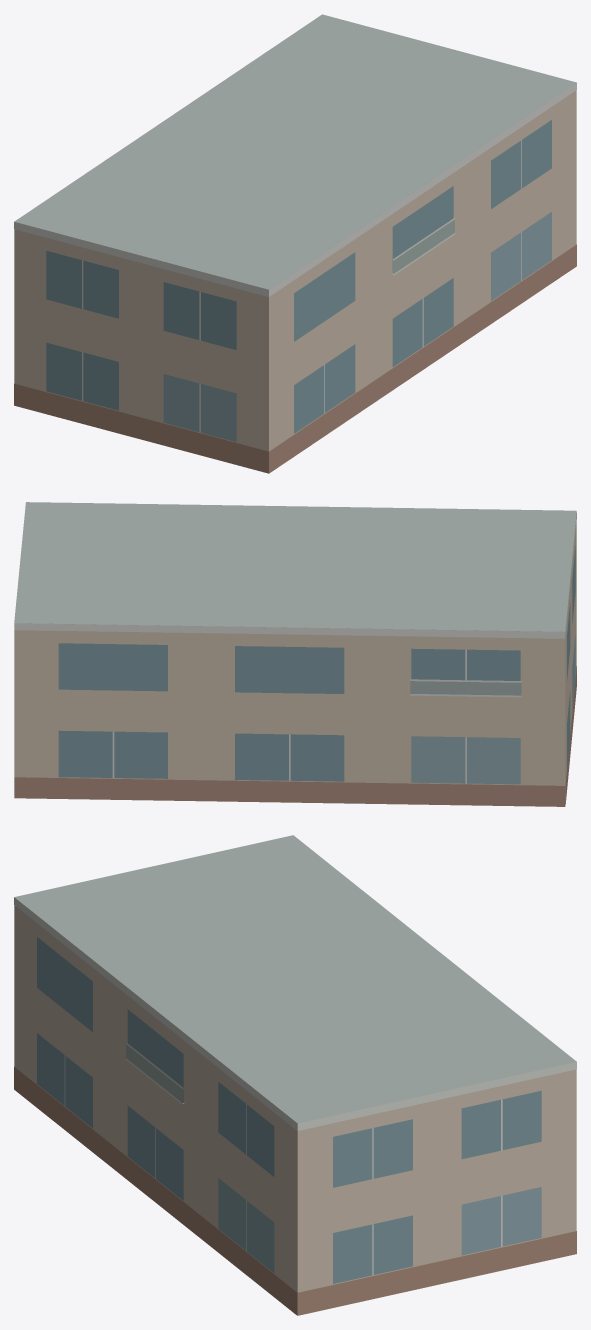
Rendered from survey-upis-32839355.glb.
The picture shows the model from 3 angles, top to bottom: view 1: azimuth 30°, elevation 25°; view 2: azimuth 150°, elevation 25°; view 3: azimuth 270°, elevation 25°; orthographic projection. The views are drawn at different scales.
Parts seen in each view (by area): view 1: survey-upis-32839355.tmp; view 2: survey-upis-32839355.tmp; view 3: survey-upis-32839355.tmp.
Part boxes in pixels (x1=…): survey-upis-32839355.tmp: x1=14, y1=14, x2=576, y2=473; survey-upis-32839355.tmp: x1=14, y1=502, x2=576, y2=806; survey-upis-32839355.tmp: x1=14, y1=835, x2=576, y2=1315.
Bounding box in the file's own units: 19.62 × 6.1 × 16.18.
